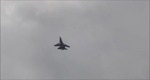maybay_muctieu: (53, 34, 71, 53)
